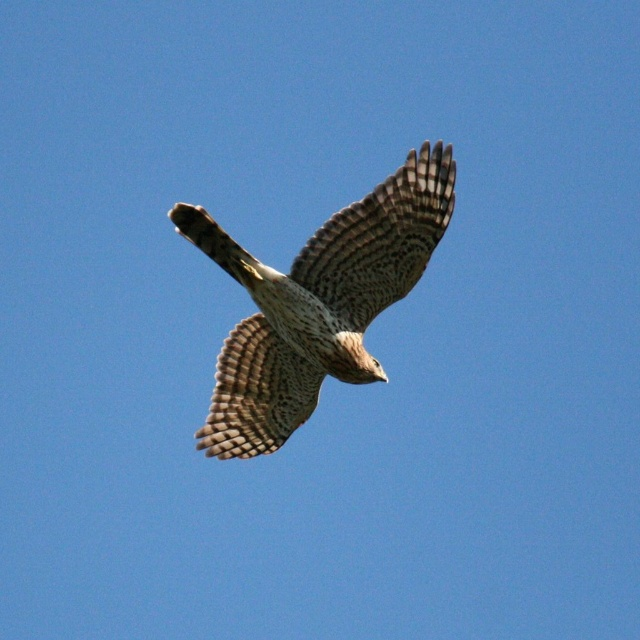Eagle: (167, 139, 456, 461)
